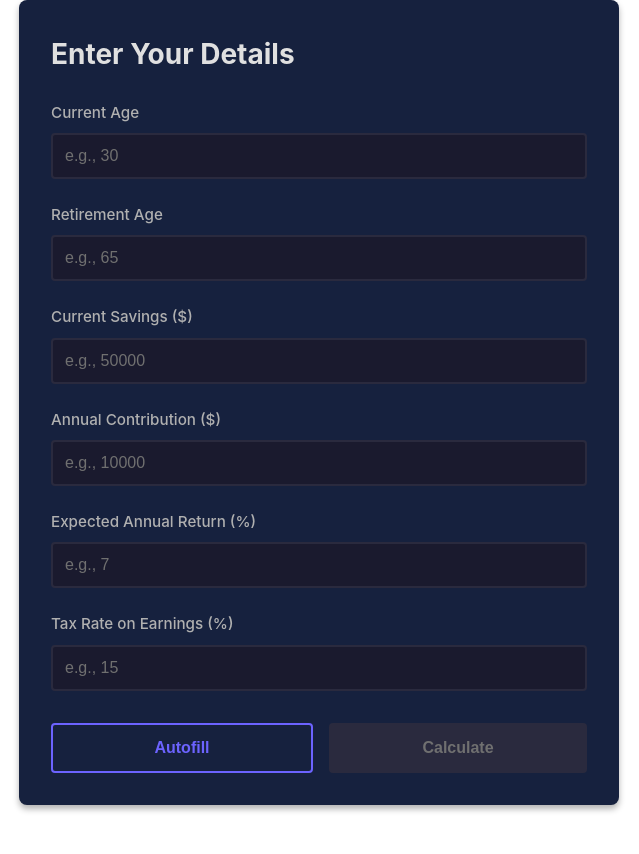
Test: InputForm › should show validation error for negative current savings
Type "-1000" into the number field labelled "Current Savings ($)" at (319, 361), box [51,338,587,384]
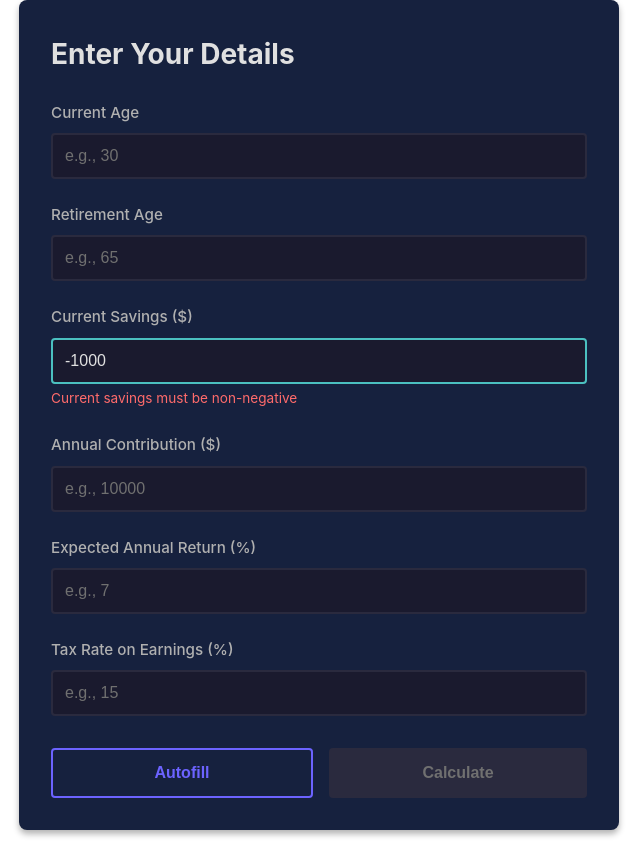
Expected: the text "Current savings must be non-negative" is shown, [51,390,297,406]
